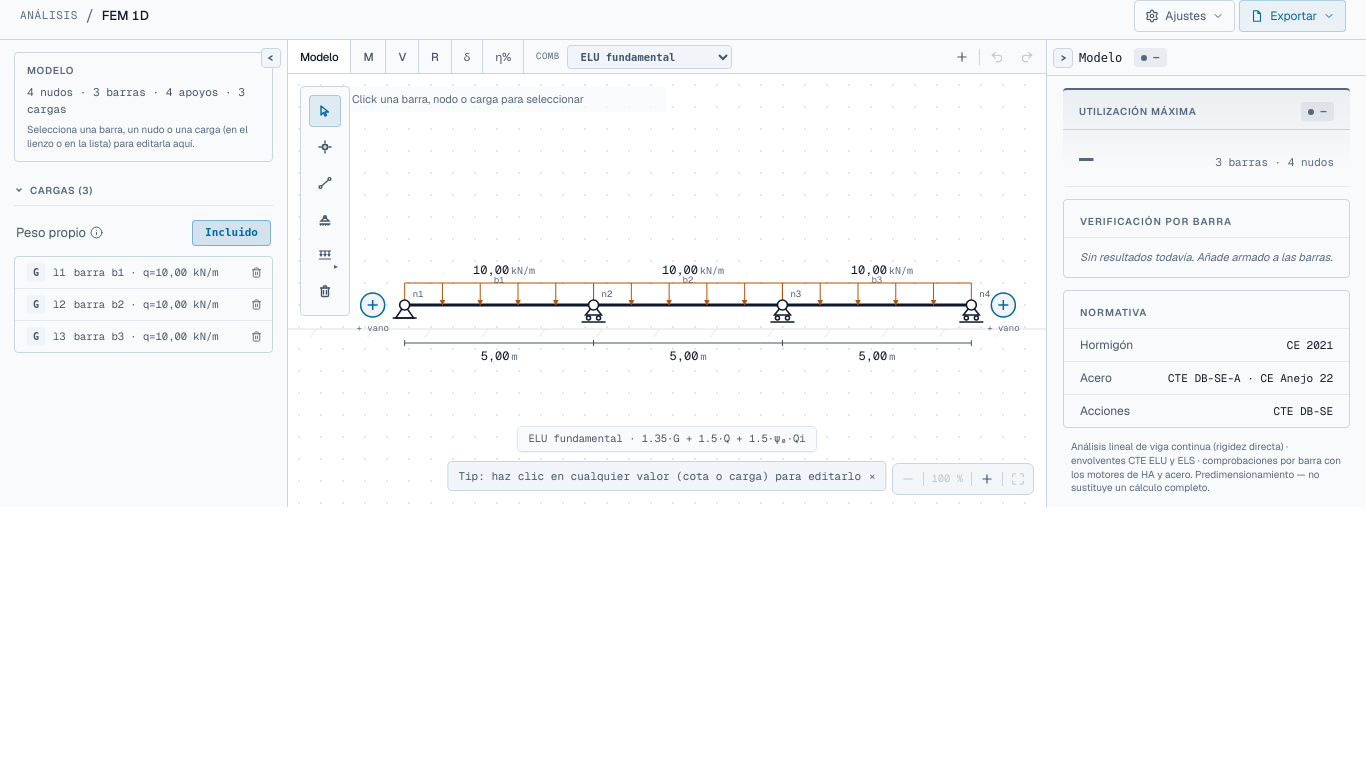
Test case: FEM 1D — cámara del lienzo › acercar sube el zoom y habilita alejar y encuadrar
Click the button named "Acercar" at coordinates (987, 479), box [972,464,1002,494]
(page scrolled)
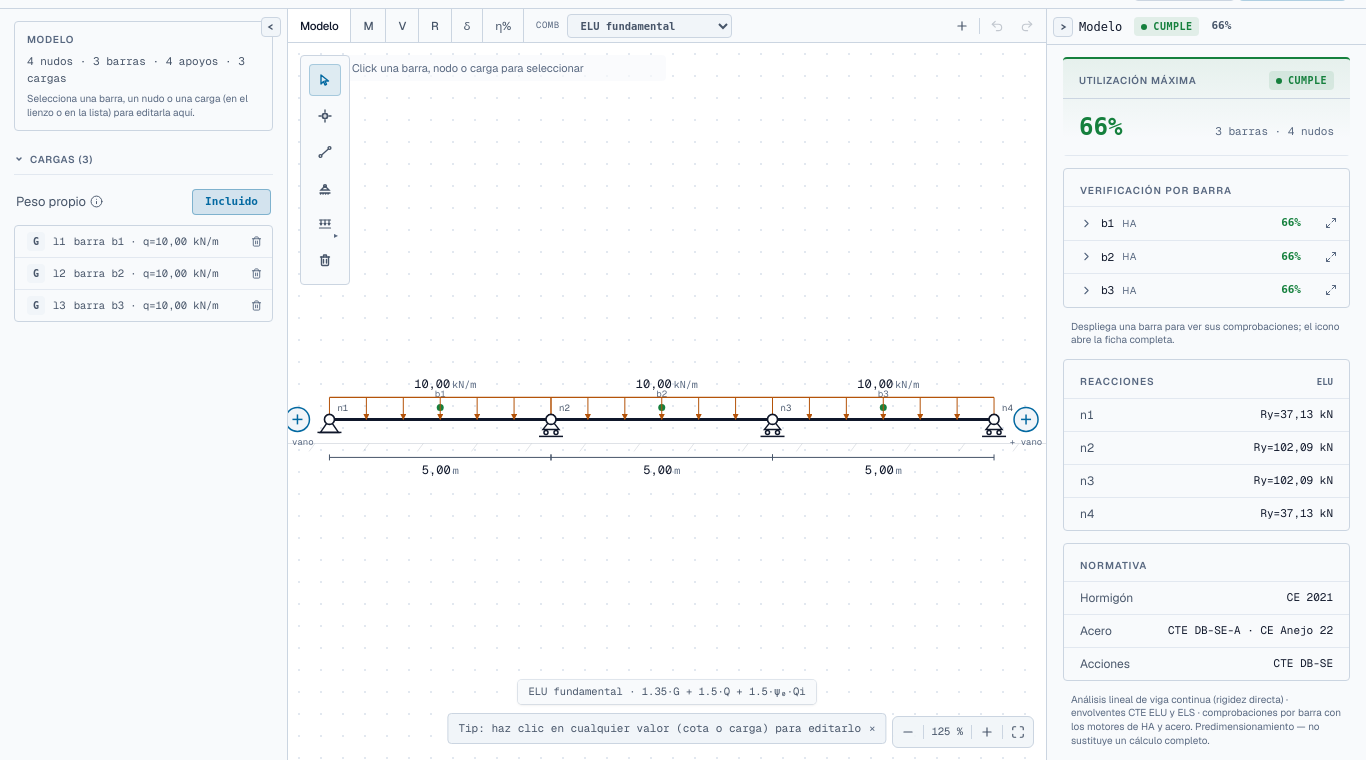
Expected: the button named "Alejar" is enabled, [892,716,922,746]
Now the button named "Encuadrar" is enabled, box [1003,716,1033,746]
Now the button named "Reencuadrar — zoom actual" no longer shows "100 %", box [924,716,971,746]
